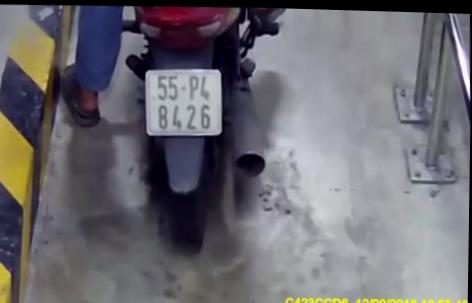LP: (143, 65, 223, 135)
